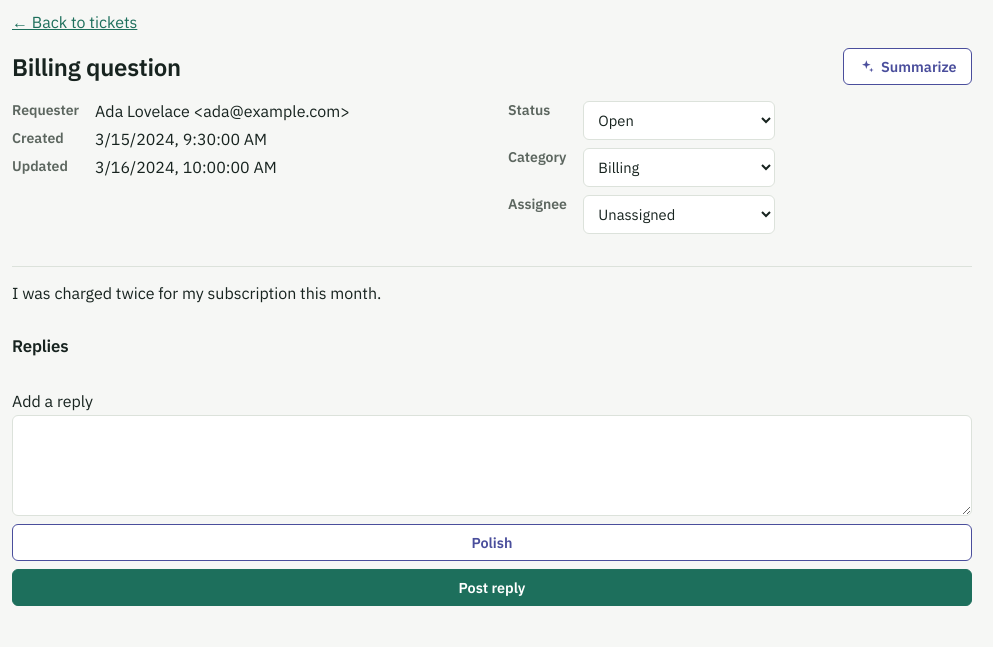
Test: shows a validation error when submitting an empty reply
Check: the heading "Billing question" is shown, box [12,50,181,82]
Click the button "Post reply" at point(492, 588), box [12,569,972,606]
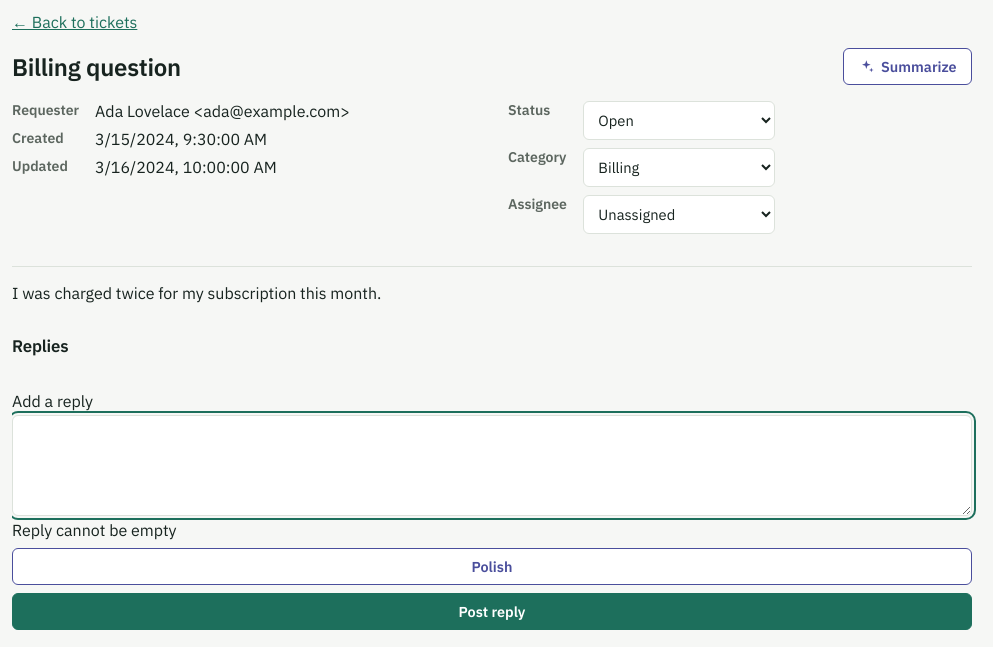
Check: the text "Reply cannot be empty" is shown, box [12,520,176,540]
